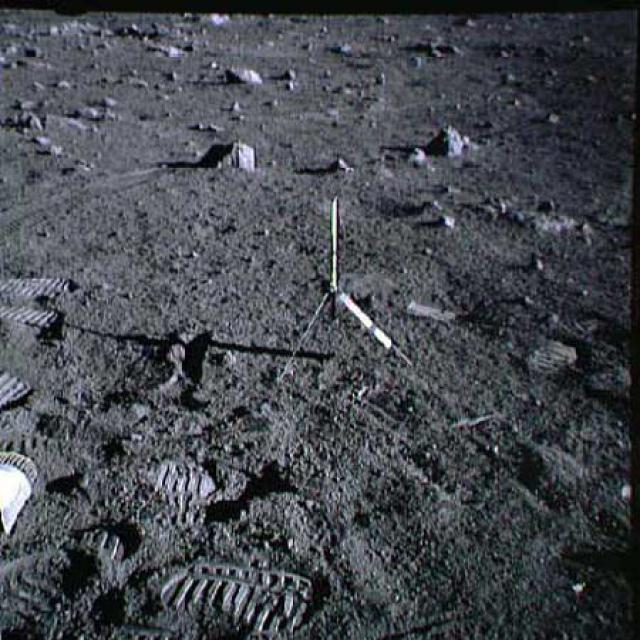artifact: (279, 194, 409, 376)
rock: (204, 132, 274, 181), (223, 53, 263, 93), (432, 116, 469, 158)
